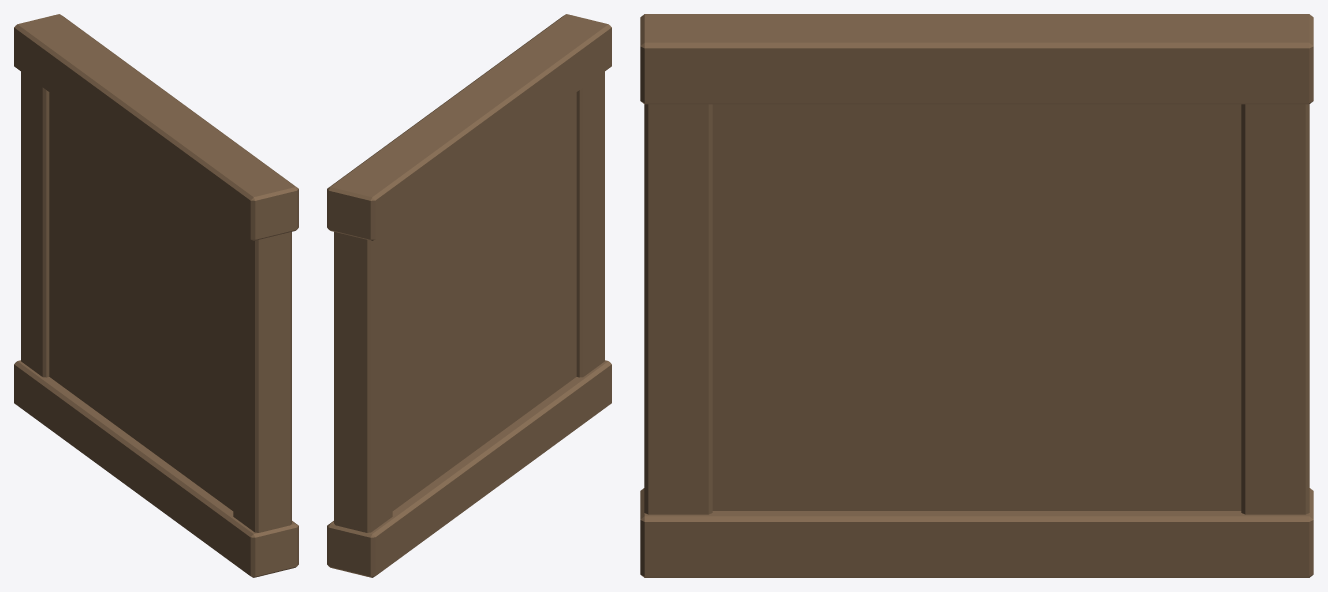
The model's file is Wall_hollow 1.fbx.
The picture shows the model from 3 angles, left to right: view 1: azimuth 30°, elevation 25°; view 2: azimuth 150°, elevation 25°; view 3: azimuth 270°, elevation 25°; orthographic projection. The views are drawn at different scales.
Parts seen in each view (by area): view 1: Wall_01.008, Plank.102, Plank.100, Plank.101, Plank.099; view 2: Wall_01.008, Plank.102, Plank.099, Plank.101, Plank.100; view 3: Wall_01.008, Plank.102, Plank.101, Plank.099, Plank.100.
Boxes of the visible parts, bbox=[...] form: Wall_01.008: bbox=[49, 92, 233, 510]; Plank.102: bbox=[14, 14, 298, 240]; Plank.100: bbox=[233, 227, 291, 532]; Plank.101: bbox=[14, 360, 298, 577]; Plank.099: bbox=[21, 71, 49, 377]; Wall_01.008: bbox=[392, 92, 576, 510]; Plank.102: bbox=[327, 14, 611, 240]; Plank.099: bbox=[334, 227, 392, 532]; Plank.101: bbox=[327, 360, 611, 577]; Plank.100: bbox=[576, 71, 604, 377]; Wall_01.008: bbox=[712, 104, 1241, 510]; Plank.102: bbox=[640, 14, 1313, 104]; Plank.101: bbox=[640, 488, 1313, 577]; Plank.099: bbox=[1241, 104, 1309, 514]; Plank.100: bbox=[644, 104, 712, 514].
Bounding box in the file's own units: 52.6 × 397 × 451.
